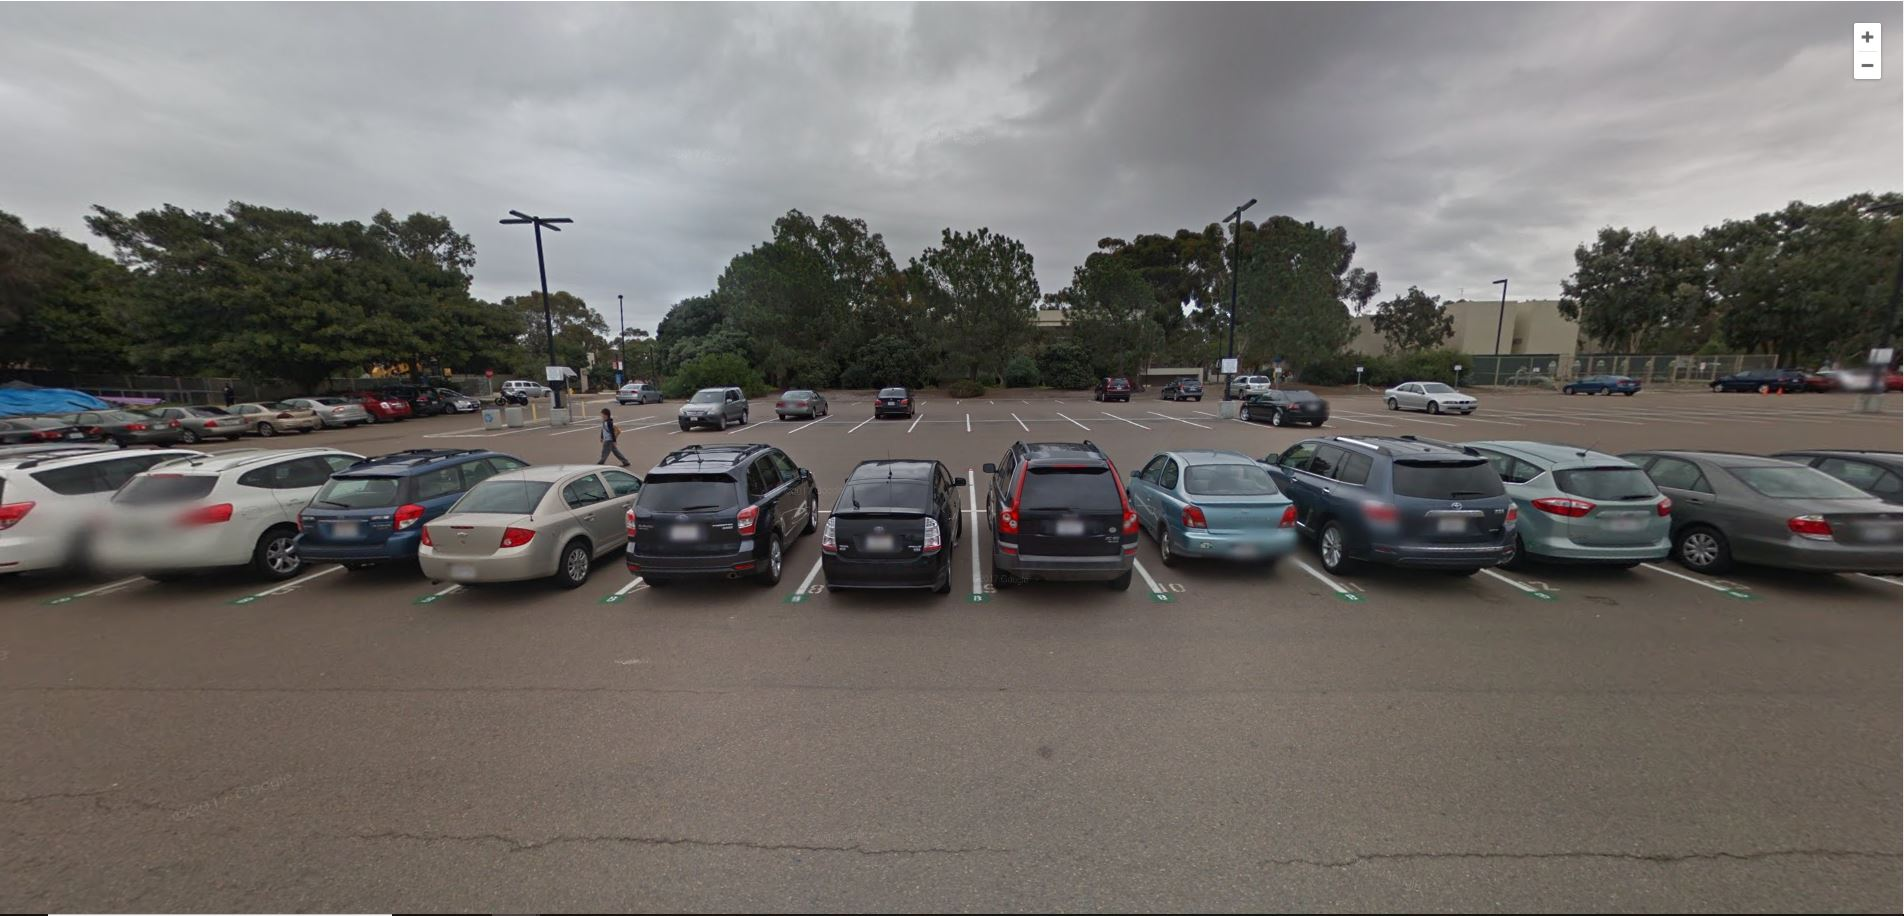car: (1619, 441, 1895, 605), (1263, 430, 1521, 598), (89, 443, 399, 562), (1461, 432, 1687, 590), (416, 459, 657, 592), (623, 440, 818, 594), (979, 439, 1144, 616), (817, 445, 968, 624), (295, 451, 539, 559), (1120, 449, 1293, 583), (129, 379, 243, 441), (1377, 371, 1484, 431), (53, 403, 177, 443), (674, 381, 758, 439), (214, 392, 314, 435), (1242, 388, 1333, 429), (1, 407, 90, 446), (1708, 364, 1803, 397), (772, 381, 838, 424), (291, 388, 363, 424), (869, 372, 917, 422), (1086, 362, 1133, 407), (1566, 372, 1636, 402), (614, 373, 671, 409), (1157, 375, 1205, 401)
